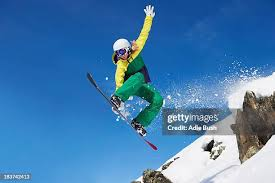snowboard: (86, 71, 159, 153)
